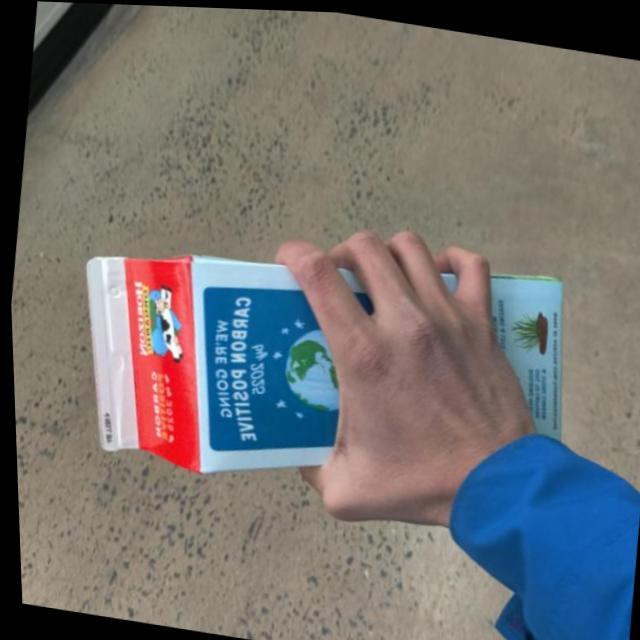Milk: (55, 198, 573, 522)
